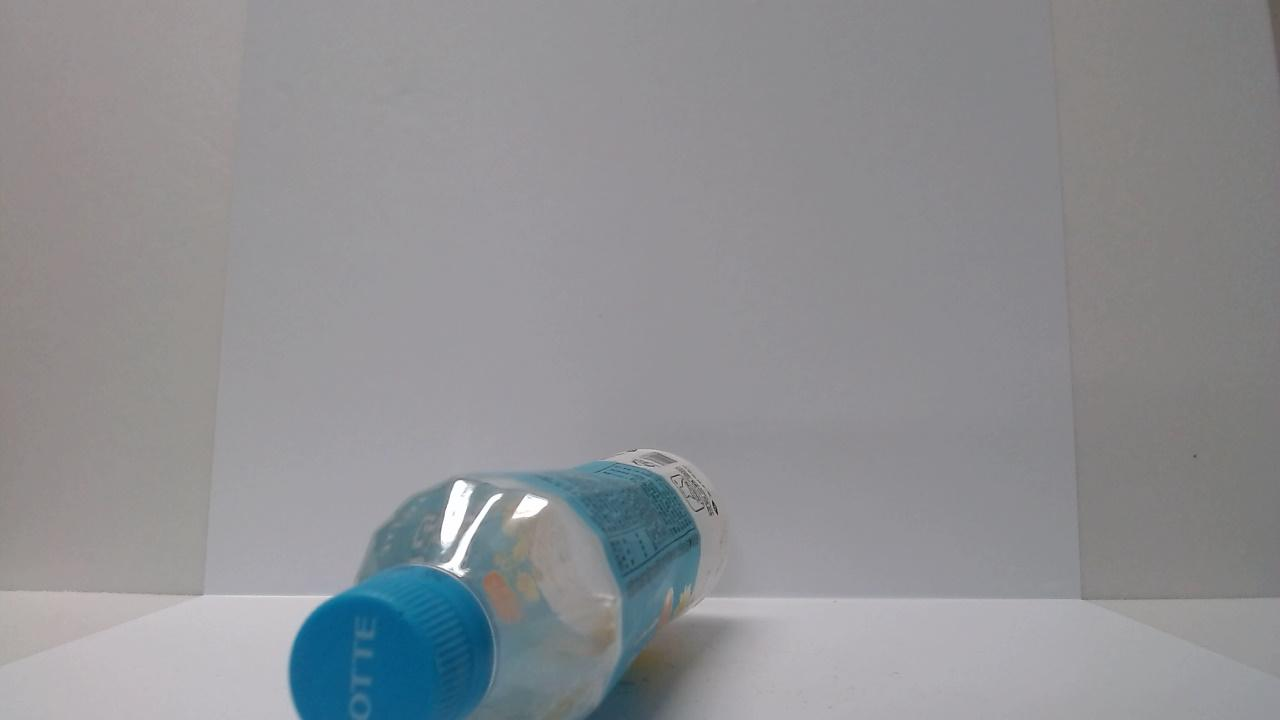bottle: (287, 435, 739, 716)
